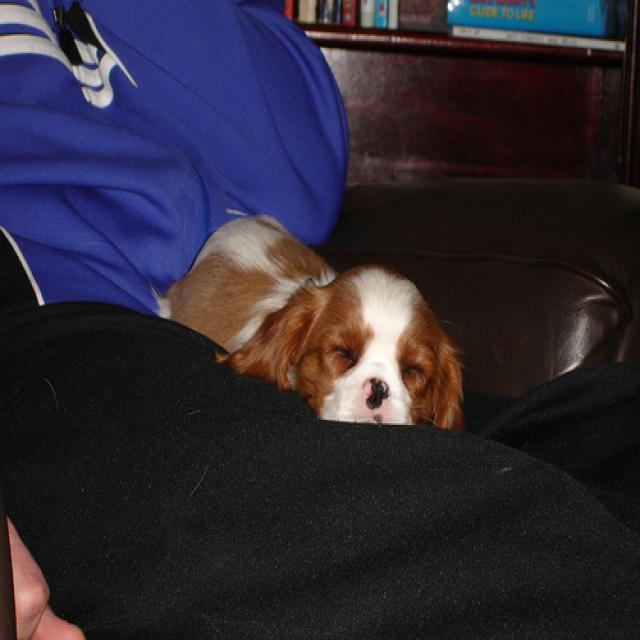dog: (147, 213, 464, 433)
